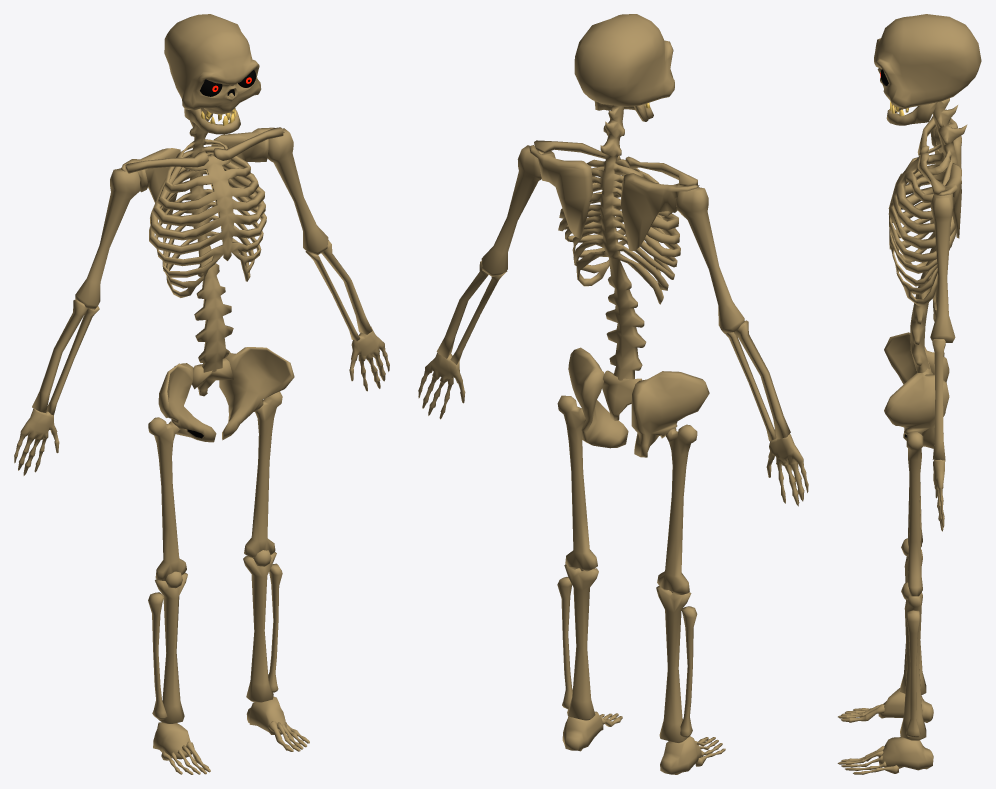
File: Skeleton.fbx
The picture shows the model from 3 angles, left to right: view 1: azimuth 30°, elevation 25°; view 2: azimuth 150°, elevation 25°; view 3: azimuth 270°, elevation 25°; orthographic projection. The views are drawn at different scales.
Visible parts, largest first — view 1: Shiveringdownyourspine.001, Skulllllll.001, Pelvis, Cylinder.004, Cube.010, Cylinder.003, ArmsTop.001, Cylinder.008, ArmsTop.002, ArmsBottom.001, Feet, ArmsBottom (+8 smaller); view 2: Shiveringdownyourspine.001, Skulllllll.001, Pelvis, Cylinder.004, Cube.010, Cylinder.003, Cylinder.008, ArmsTop.001, ShoulderBlades.001, ShoulderBlades.002, ArmsTop.002, ArmsBottom.001 (+7 smaller); view 3: Shiveringdownyourspine.001, Skulllllll.001, Pelvis, ArmsTop.002, Cylinder.008, Feet.001, Cylinder.004, Feet, ArmsBottom, ArmsBottom.003, ShoulderBlades.002, Cube.008 (+3 smaller).
Boxes of the visible parts, box(x1,y1,x2,y2) form: Shiveringdownyourspine.001: box(149, 108, 266, 372); Skulllllll.001: box(164, 14, 261, 114); Pelvis: box(158, 347, 294, 442); Cylinder.004: box(155, 552, 276, 723); Cube.010: box(14, 326, 389, 475); Cylinder.003: box(148, 417, 186, 580); ArmsTop.001: box(75, 168, 140, 309); Cylinder.008: box(244, 391, 282, 557); ArmsTop.002: box(267, 128, 328, 254); ArmsBottom.001: box(32, 299, 99, 415); Feet: box(153, 722, 210, 774); ArmsBottom: box(305, 240, 372, 341); Shiveringdownyourspine.001: box(558, 105, 680, 380); Skulllllll.001: box(574, 14, 674, 106); Pelvis: box(568, 347, 709, 457); Cylinder.004: box(564, 564, 691, 743); Cube.010: box(418, 352, 808, 506); Cylinder.003: box(657, 424, 697, 594); Cylinder.008: box(557, 395, 597, 571); ArmsTop.001: box(676, 187, 744, 333); ShoulderBlades.001: box(620, 173, 699, 251); ShoulderBlades.002: box(529, 145, 592, 238); ArmsTop.002: box(481, 145, 543, 276); ArmsBottom.001: box(725, 320, 790, 441); Shiveringdownyourspine.001: box(888, 98, 967, 372); Skulllllll.001: box(874, 14, 981, 108); Pelvis: box(884, 332, 949, 448); ArmsTop.002: box(930, 193, 955, 342); Cylinder.008: box(906, 432, 923, 596); Feet.001: box(837, 737, 933, 774); Cylinder.004: box(900, 549, 926, 740); Feet: box(838, 688, 933, 722); ArmsBottom: box(932, 339, 945, 460); ArmsBottom.003: box(906, 610, 920, 737); ShoulderBlades.002: box(936, 163, 961, 238); Cube.008: box(917, 116, 945, 195).
Size of the model in its own units: 60.27 by 109 by 19.7.
